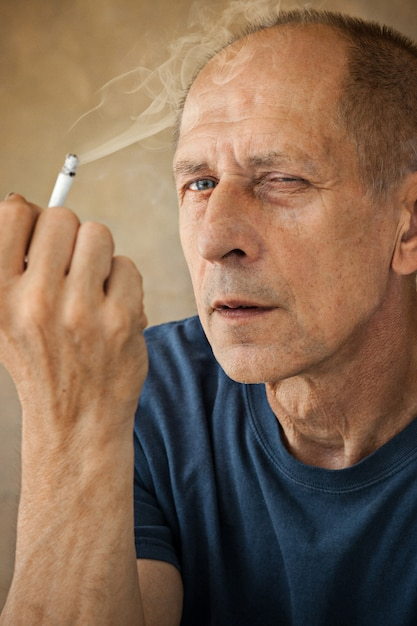cigarette: (43, 153, 77, 208)
